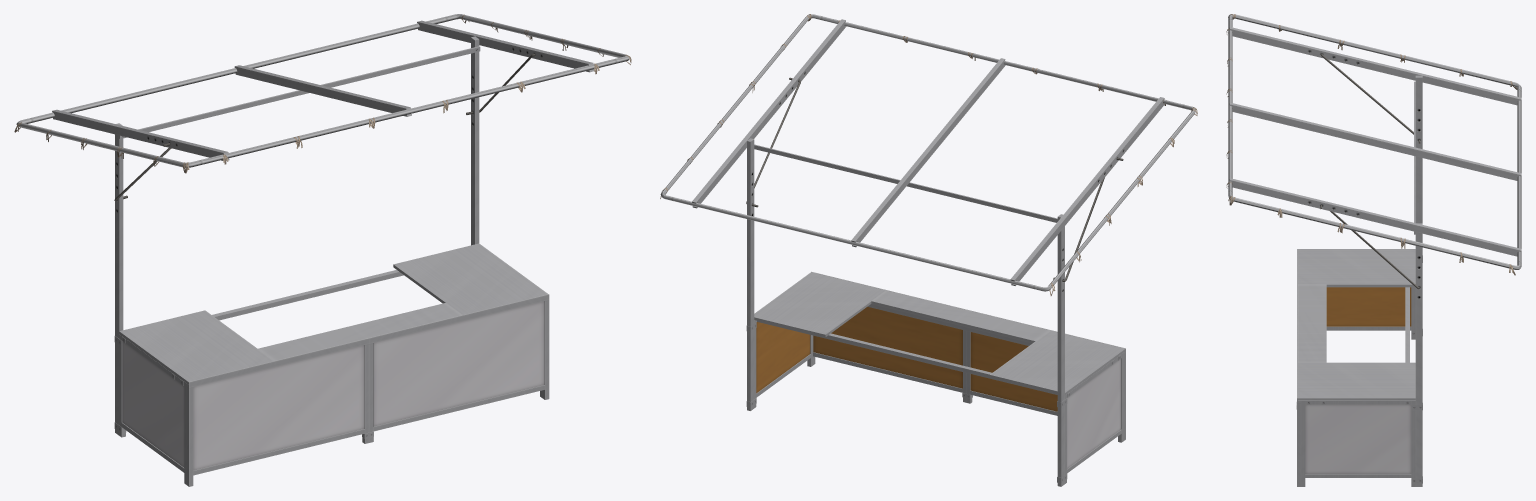
Rendered from jsf_2P_s03_c04_t03.fbx.
3 views of the same model, side by side, from view 1: azimuth 30°, elevation 25°; view 2: azimuth 150°, elevation 25°; view 3: azimuth 270°, elevation 25° (orthographic). The views are drawn at different scales.
Visible parts, largest first — view 1: Base_s03_c04, Pillar2_s03, Table_2P_s03_t03, Rope_2P_s03; view 2: Base_s03_c04, Pillar2_s03, Table_2P_s03_t03; view 3: Pillar2_s03, Base_s03_c04, Table_2P_s03_t03, Rope_2P_s03.
Part boxes in pixels (<box>): Base_s03_c04: <box>114,294,549,486</box>; Pillar2_s03: <box>16,14,629,435</box>; Table_2P_s03_t03: <box>119,243,547,385</box>; Rope_2P_s03: <box>14,14,631,173</box>; Base_s03_c04: <box>746,271,1125,483</box>; Pillar2_s03: <box>660,14,1196,486</box>; Table_2P_s03_t03: <box>754,272,1125,397</box>; Pillar2_s03: <box>1228,14,1521,486</box>; Base_s03_c04: <box>1296,249,1422,486</box>; Table_2P_s03_t03: <box>1298,249,1415,404</box>; Rope_2P_s03: <box>1226,14,1517,275</box>.
Size of the model in its own units: 316 by 244 by 211.
